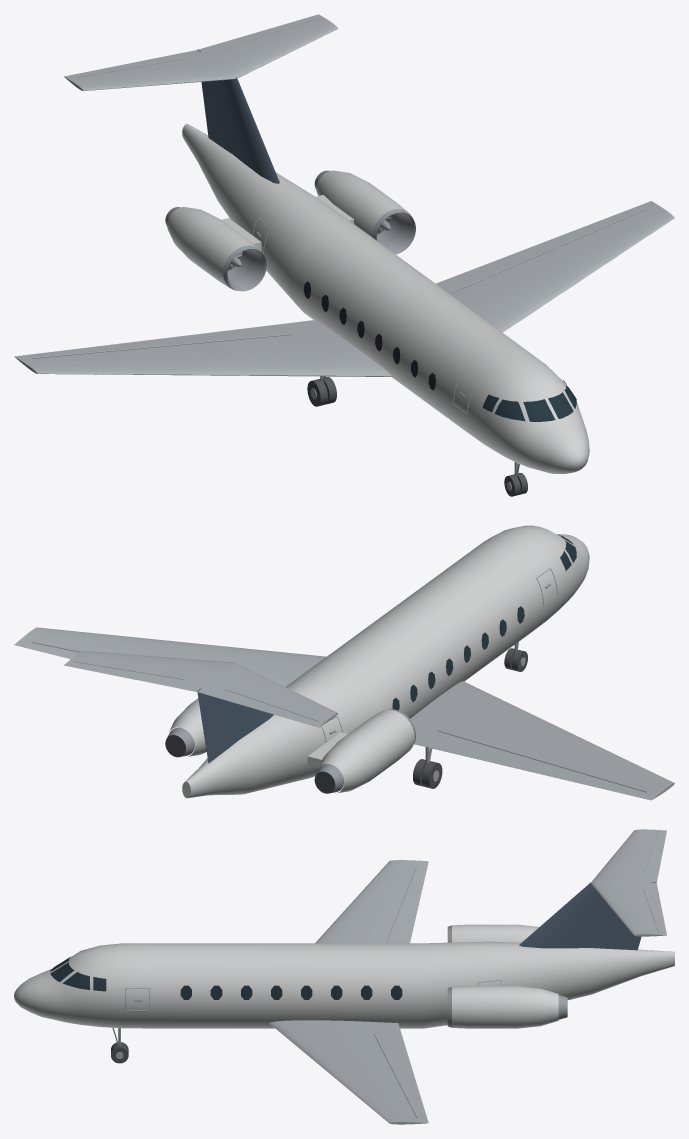
The model's file is aircraft-bizjet.glb.
3 views of the same model, one above another, from view 1: azimuth 30°, elevation 25°; view 2: azimuth 150°, elevation 25°; view 3: azimuth 270°, elevation 25° (orthographic). The views are drawn at different scales.
Visible parts, largest first — view 1: aircraft-bizjet, gear; view 2: aircraft-bizjet, gear; view 3: aircraft-bizjet.
Part boxes in pixels (box(x1,y1,x2,y2)): aircraft-bizjet: box(14, 14, 674, 473); gear: box(307, 376, 527, 496); aircraft-bizjet: box(14, 525, 674, 800); gear: box(413, 642, 527, 788); aircraft-bizjet: box(14, 829, 674, 1124).
Bounding box in the file's own units: 19.6 × 6.28 × 20.9.
